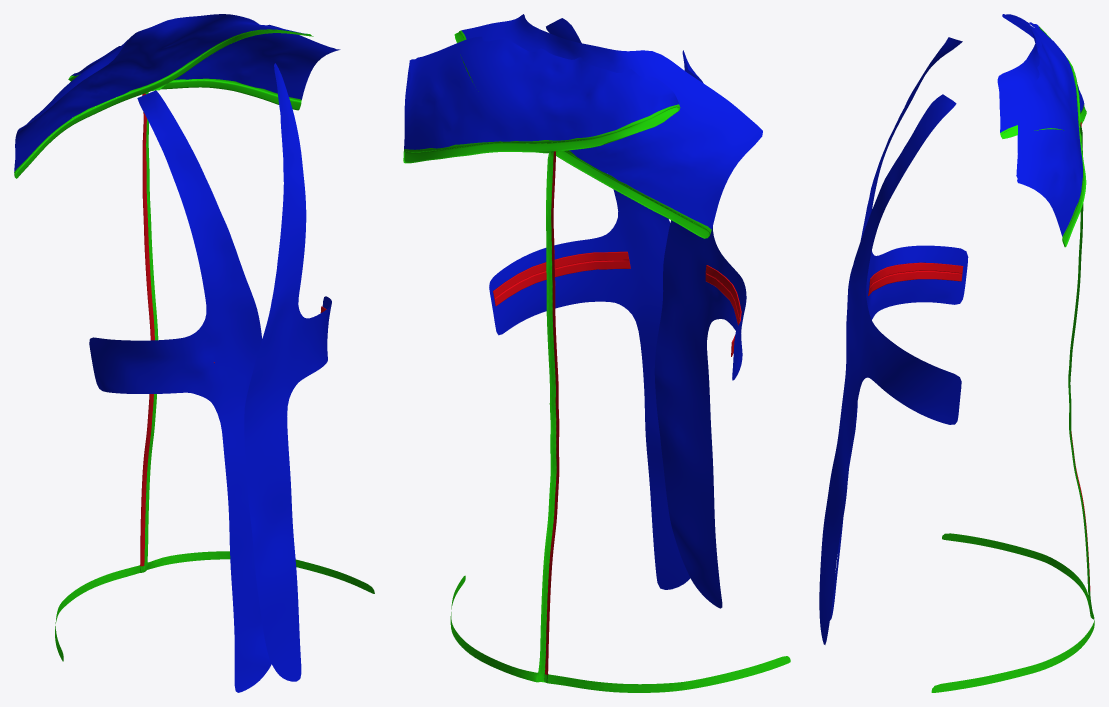
The model's file is unlined_no_vent.glb.
3 renders of one model, left to right at view 1: azimuth 30°, elevation 25°; view 2: azimuth 150°, elevation 25°; view 3: azimuth 270°, elevation 25°, orthographic. The views are drawn at different scales.
Parts seen in each view (by area): view 1: secondary, tertiary, primary; view 2: secondary, tertiary, primary; view 3: secondary, tertiary, primary.
Part boxes in pixels (x1,y1,x2,y2): secondary: [14, 14, 340, 692]; tertiary: [14, 29, 374, 661]; primary: [140, 93, 326, 566]; secondary: [404, 14, 762, 608]; tertiary: [403, 30, 790, 692]; primary: [493, 151, 741, 674]; secondary: [819, 14, 1084, 644]; tertiary: [931, 26, 1094, 692]; primary: [868, 122, 1090, 590].
Size of the model in its own units: 41.4 by 72.64 by 30.47.
